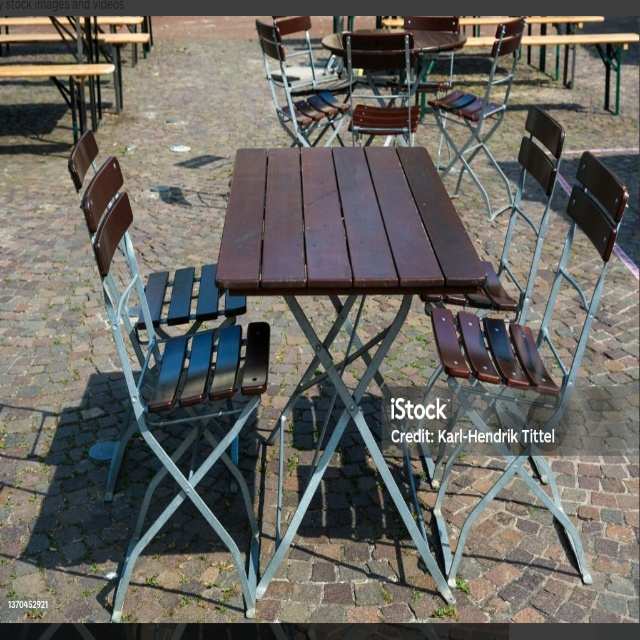obstacle: (210, 135, 483, 611), (432, 155, 624, 576), (81, 158, 257, 603), (475, 101, 566, 299), (333, 24, 430, 146), (1, 55, 118, 142), (435, 19, 522, 136), (262, 20, 330, 136)
